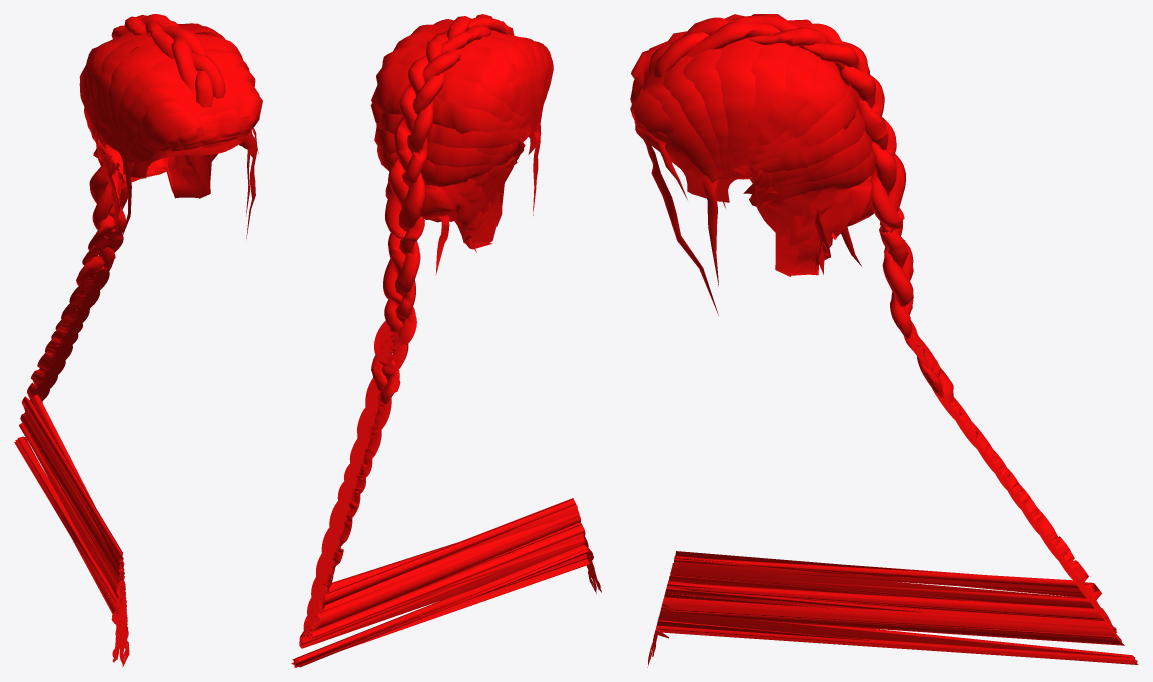
The model's file is elvs_lara_hair_M.glb.
The picture shows the model from 3 angles, left to right: view 1: azimuth 30°, elevation 25°; view 2: azimuth 150°, elevation 25°; view 3: azimuth 270°, elevation 25°; orthographic projection. The views are drawn at different scales.
Size of the model in its own units: 0.2246 by 0.7449 by 0.4883.
1 material, 1 textured.
